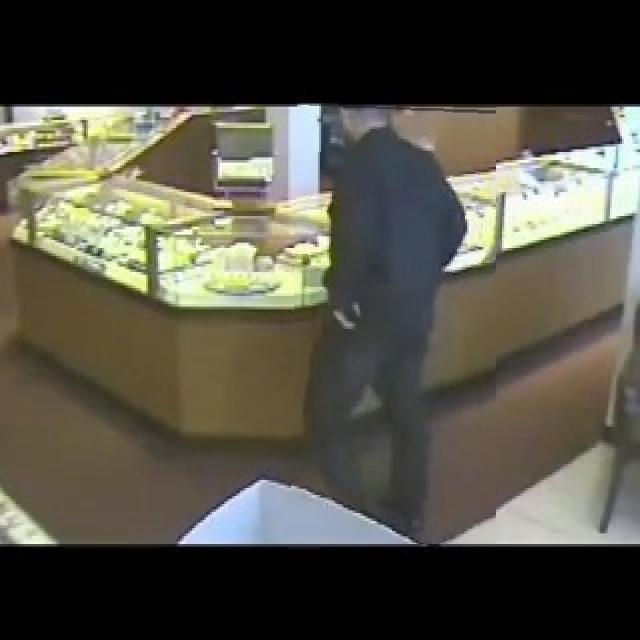normal: (292, 104, 496, 544)
